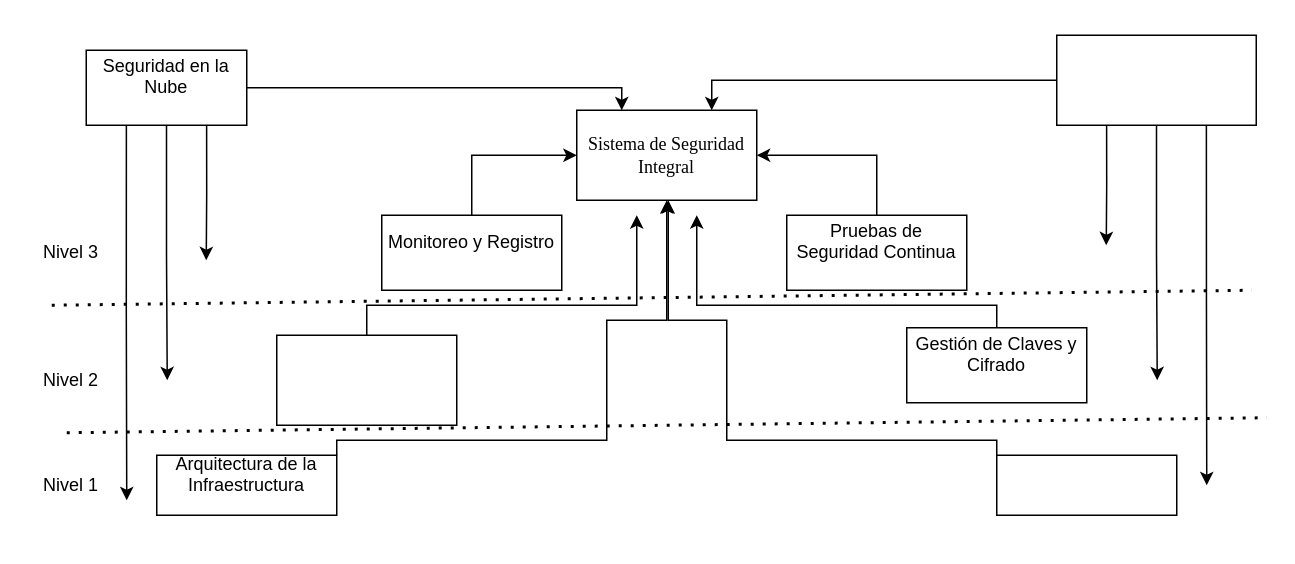
Image size: 1295x564. Some labels were removed from this diagram. The shapes that lost their labels are listed below. From the top down, each one's box as (x1, y1, x2, y2) in pixels, then its label:
(1055, 34, 1256, 125): Desarrollo de Aplicaciones Seguras
(275, 334, 457, 425): Gestión de Identidades y Accesos
(995, 454, 1177, 515): Seguridad de la Red
